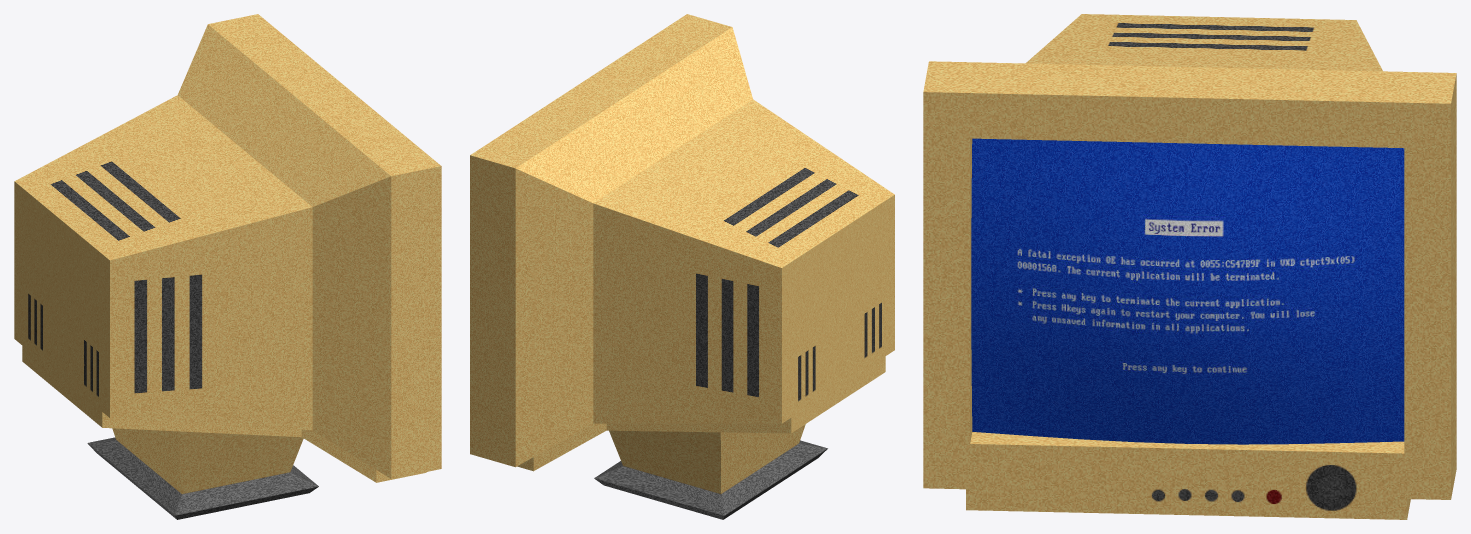
The model's file is oh no my PCCC.glb.
3 renders of one model, left to right at view 1: azimuth 30°, elevation 25°; view 2: azimuth 150°, elevation 25°; view 3: azimuth 270°, elevation 25°, orthographic. The views are drawn at different scales.
Parts seen in each view (by area): view 1: Cube.011; view 2: Cube.011; view 3: Cube.011.
Part boxes in pixels (left/top/right/bottom): Cube.011: left=14, top=14, right=441, bottom=519; Cube.011: left=470, top=14, right=894, bottom=519; Cube.011: left=923, top=14, right=1456, bottom=519.
Size of the model in its own units: 0.5929 by 0.6893 by 0.7204.
Materials: 2 (2 with a texture image).
